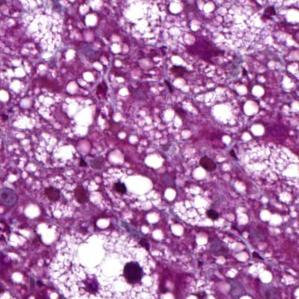ballooning: (50, 231, 159, 298), (172, 192, 226, 231)
